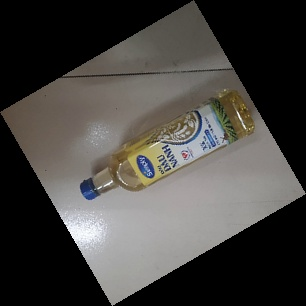Simply: (79, 88, 257, 201)
